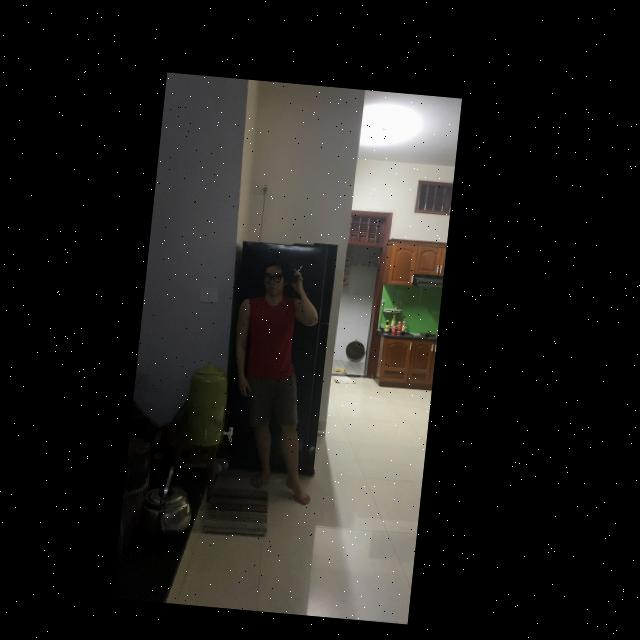cigarette: (302, 259, 307, 266)
